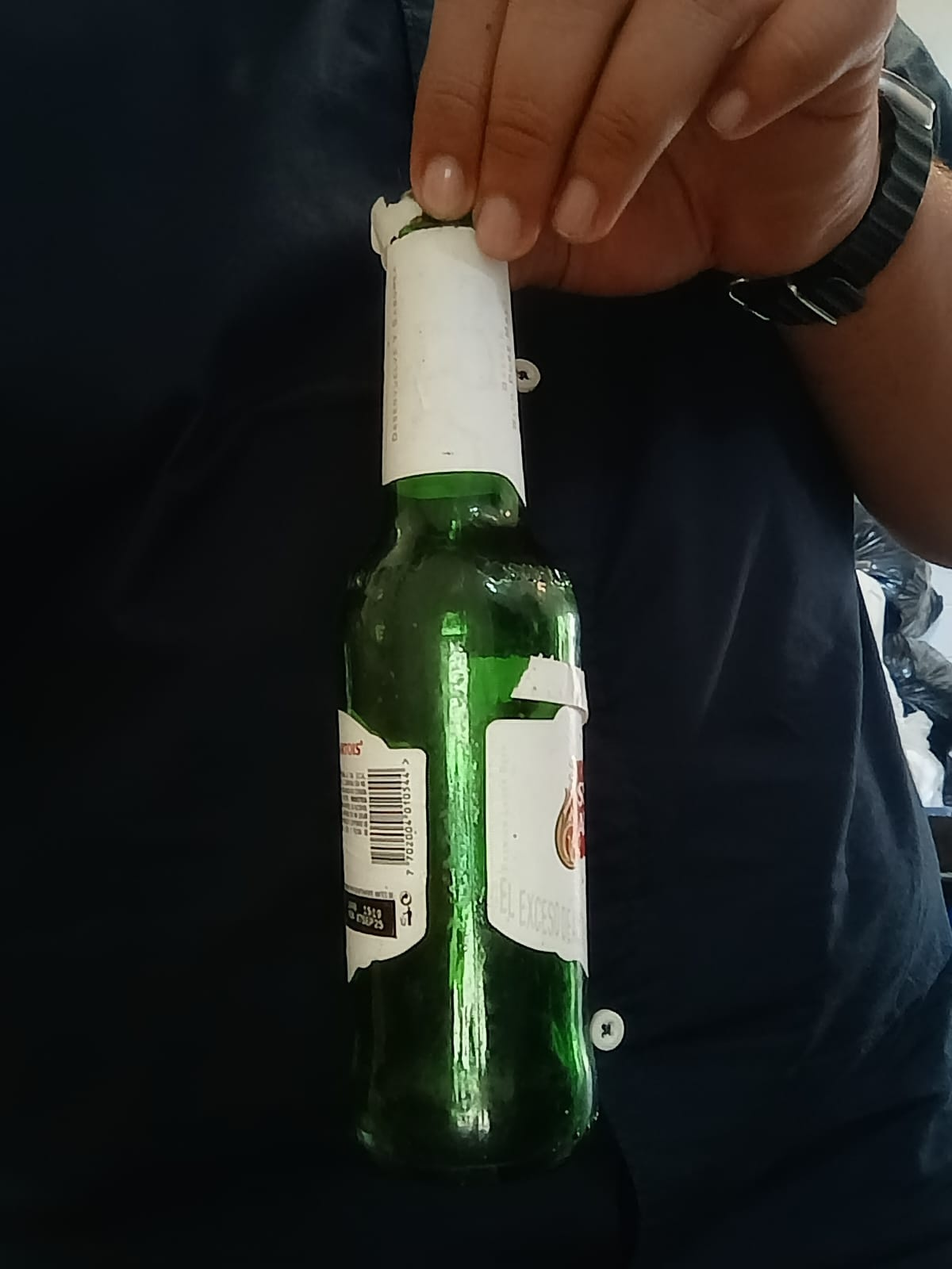Vidrio: (326, 181, 598, 1186)
